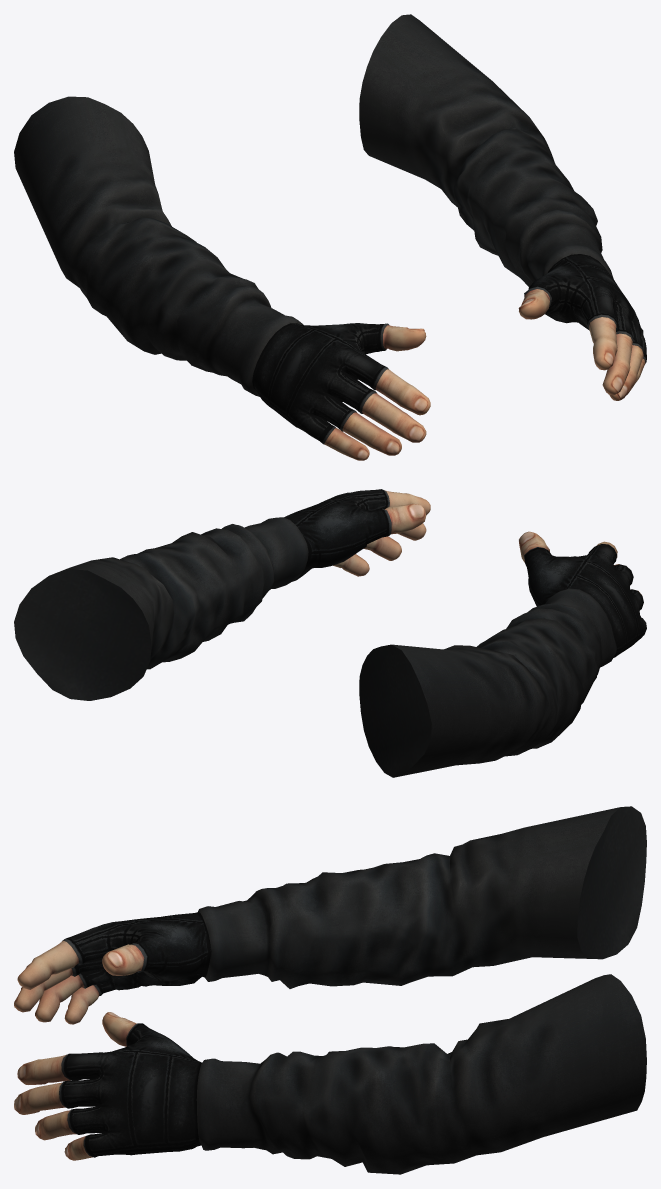
Rendered from first_person_arms_no_arm.glb.
The picture shows the model from 3 angles, top to bottom: view 1: azimuth 30°, elevation 25°; view 2: azimuth 150°, elevation 25°; view 3: azimuth 270°, elevation 25°; orthographic projection. The views are drawn at different scales.
Parts seen in each view (by area): view 1: Object_6; view 2: Object_6; view 3: Object_6.
Part boxes in pixels (<box>): Object_6: <box>14,14,646,460</box>; Object_6: <box>14,489,646,777</box>; Object_6: <box>14,806,646,1174</box>.
Size of the model in its own units: 56 by 20.73 by 60.18.
Materials: 1 (1 with a texture image).
